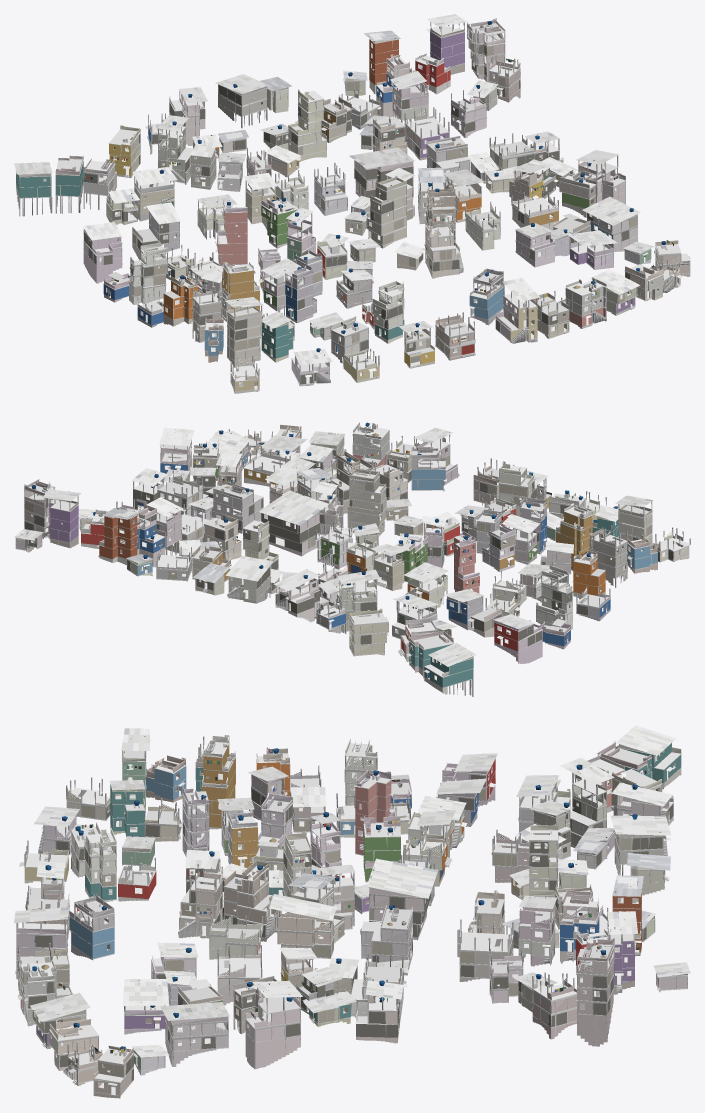
3 renders of one model, top to bottom at view 1: azimuth 30°, elevation 25°; view 2: azimuth 150°, elevation 25°; view 3: azimuth 270°, elevation 25°, orthographic. The views are drawn at different scales.
Parts seen in each view (by area): view 1: T_27_25; view 2: T_27_25; view 3: T_27_25.
Boxes of the visible parts, <box> form: T_27_25: <box>14,14,690,393</box>; T_27_25: <box>14,422,690,696</box>; T_27_25: <box>14,725,690,1098</box>.
Bounding box in the file's own units: 135 × 32.09 × 130.
